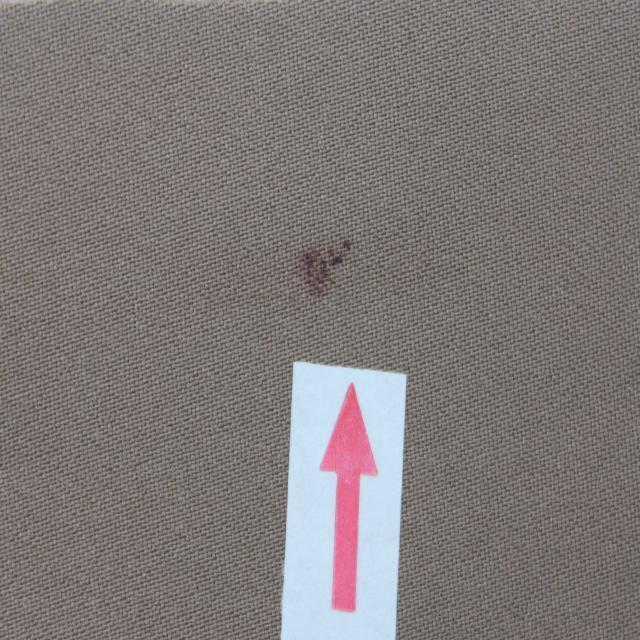stain: (285, 233, 362, 323)
